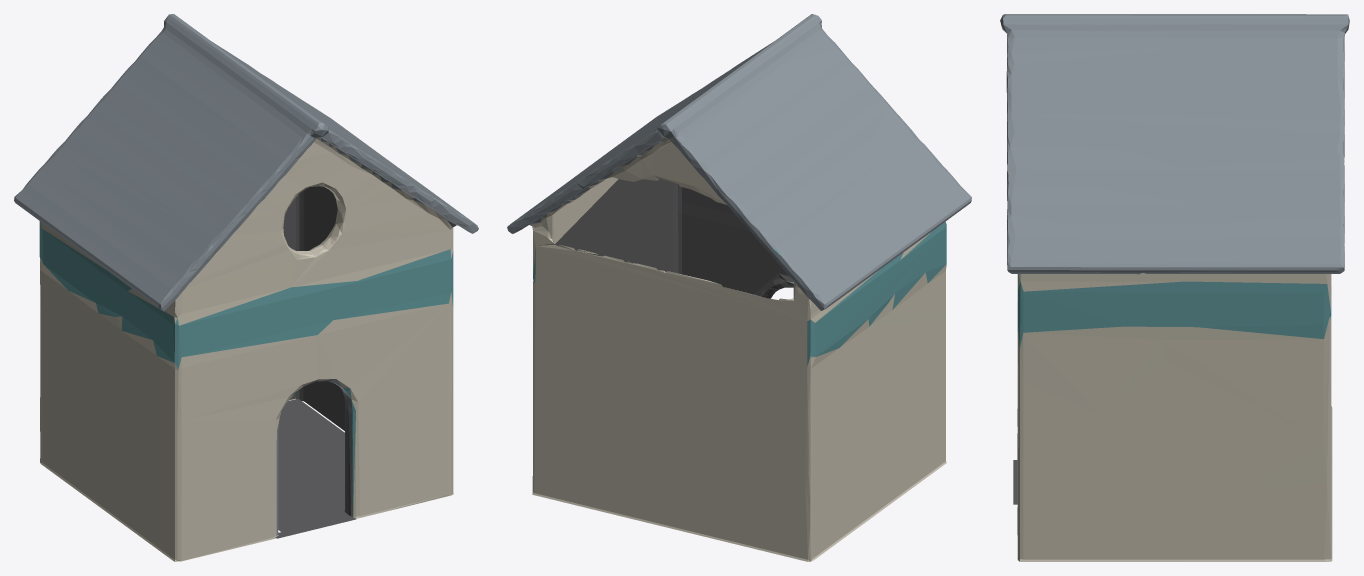
The picture shows the model from 3 angles, left to right: view 1: azimuth 30°, elevation 25°; view 2: azimuth 150°, elevation 25°; view 3: azimuth 270°, elevation 25°; orthographic projection. The views are drawn at different scales.
Parts seen in each view (by area): view 1: geometry_0; view 2: geometry_0; view 3: geometry_0.
Part boxes in pixels (<box>): geometry_0: <box>14,14,478,561</box>; geometry_0: <box>507,14,971,561</box>; geometry_0: <box>1000,14,1349,561</box>.
Bounding box in the file's own units: 0.7758 × 0.9516 × 0.6433.
